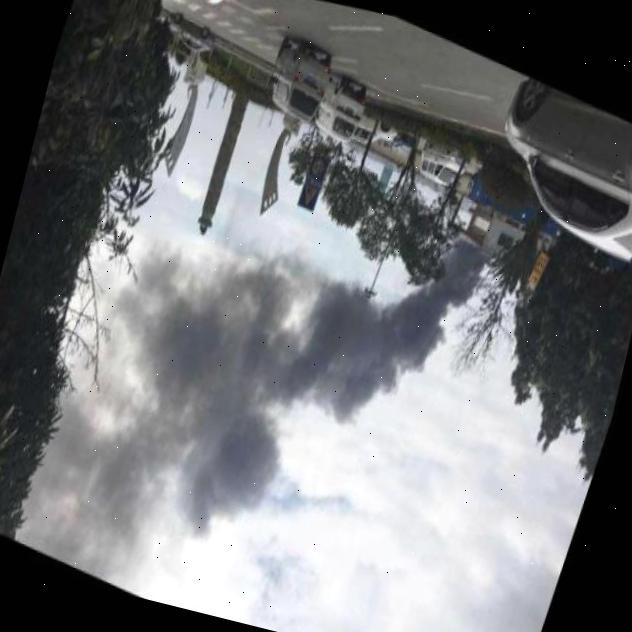smoke: (92, 196, 348, 434), (30, 331, 208, 522), (158, 386, 303, 566), (2, 461, 169, 598), (294, 282, 418, 443), (390, 290, 458, 402), (427, 234, 498, 323)
